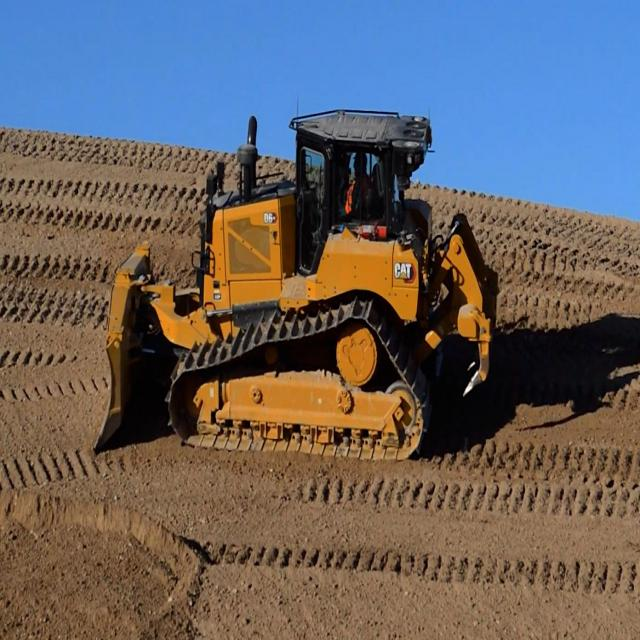Bulldozer: (102, 86, 506, 474)
